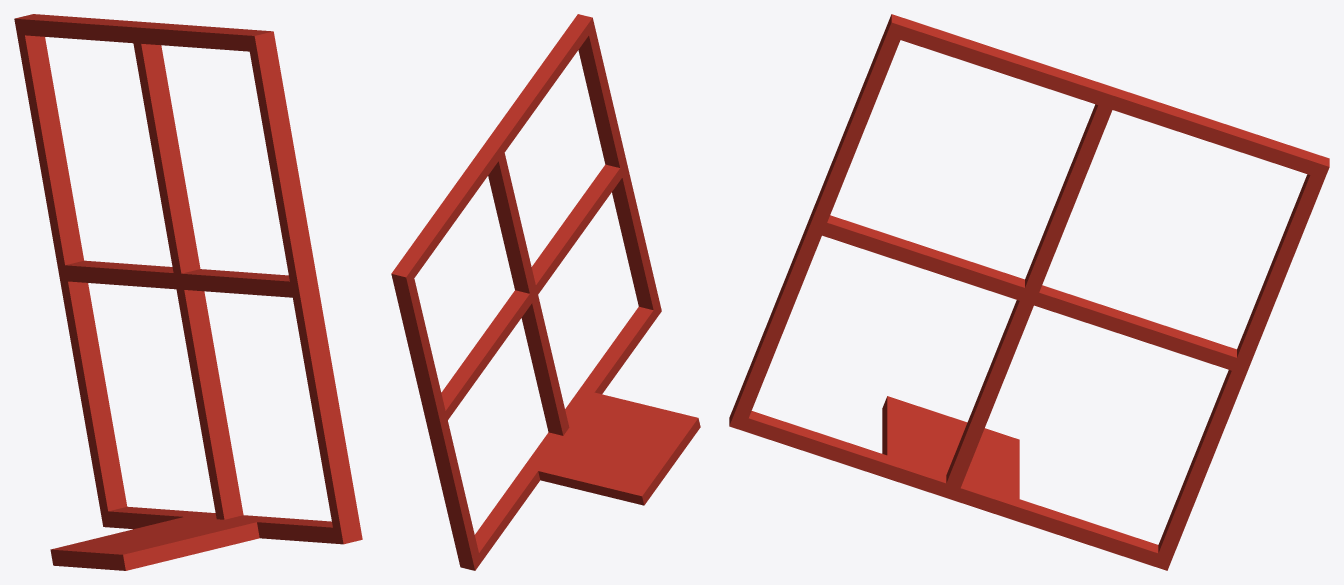
Rendered from EBoxNewAsm_stp_1_spacer_2_stp_1_solid1.obj.
The picture shows the model from 3 angles, left to right: view 1: azimuth 30°, elevation 25°; view 2: azimuth 150°, elevation 25°; view 3: azimuth 270°, elevation 25°; orthographic projection. The views are drawn at different scales.
Parts seen in each view (by area): view 1: mesh12777, mesh12768, mesh12771, mesh12780, mesh12774, mesh12786, mesh12770, mesh12764, mesh12769, mesh12763, mesh12785, mesh12779; view 2: mesh12770, mesh12777, mesh12769, mesh12767, mesh12779, mesh12785, mesh12773, mesh12776, mesh12782, mesh12784, mesh12765, mesh12763; view 3: mesh12778, mesh12770, mesh12769, mesh12785, mesh12779, mesh12768, mesh12780.
Boxes of the visible parts, box(x1,y1,x2,y2) form: mesh12777: box(14, 18, 343, 544); mesh12768: box(254, 31, 362, 544); mesh12771: box(68, 281, 127, 511); mesh12780: box(25, 35, 83, 265); mesh12774: box(184, 290, 243, 519); mesh12786: box(141, 44, 200, 273); mesh12770: box(51, 506, 332, 554); mesh12764: box(123, 522, 259, 570); mesh12769: box(15, 14, 272, 35); mesh12763: box(50, 549, 125, 570); mesh12785: box(182, 269, 289, 281); mesh12779: box(66, 260, 173, 272); mesh12770: box(475, 306, 697, 552); mesh12777: box(406, 18, 661, 570); mesh12769: box(391, 14, 592, 277); mesh12767: box(391, 274, 474, 570); mesh12779: box(441, 290, 529, 410); mesh12785: box(531, 164, 619, 284); mesh12773: box(521, 303, 563, 435); mesh12776: box(612, 178, 653, 309); mesh12782: box(488, 161, 529, 293); mesh12784: box(578, 36, 619, 167); mesh12765: box(538, 471, 644, 505); mesh12763: box(642, 418, 700, 504); mesh12778: box(729, 22, 1329, 570); mesh12770: box(749, 396, 1158, 552); mesh12769: box(891, 14, 1329, 166); mesh12785: box(827, 215, 1024, 287); mesh12779: box(1039, 285, 1236, 357); mesh12768: box(729, 14, 891, 425); mesh12780: box(1237, 174, 1310, 356).
Bounding box in the file's own units: 0.04 × 0.1504 × 0.1492.
